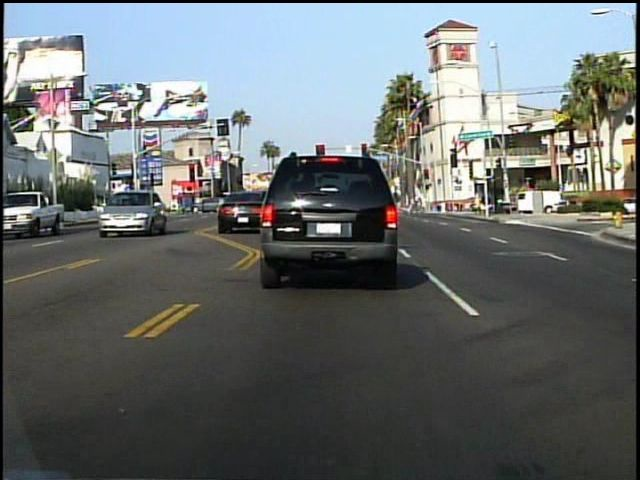person: (174, 188, 187, 221)
